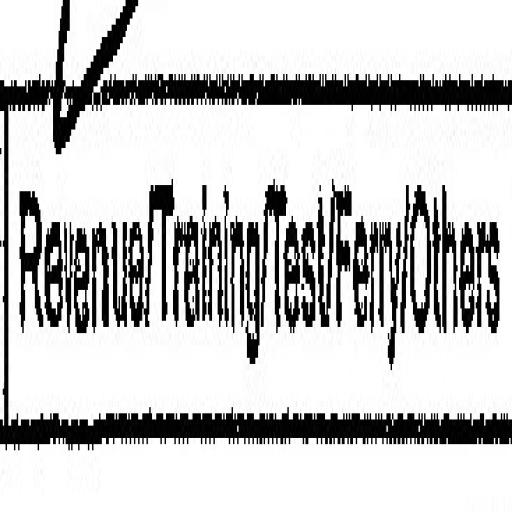check: (0, 0, 151, 463)
